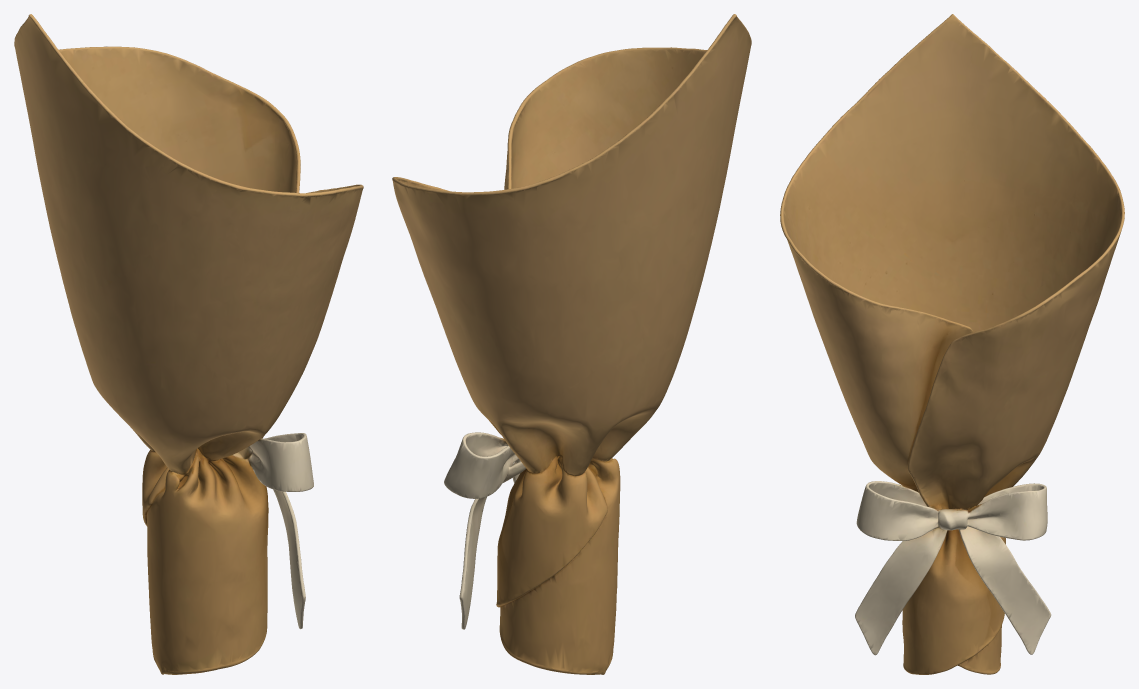
File: Wrapper_Bouquet.glb
The picture shows the model from 3 angles, left to right: view 1: azimuth 30°, elevation 25°; view 2: azimuth 150°, elevation 25°; view 3: azimuth 270°, elevation 25°; orthographic projection. The views are drawn at different scales.
Parts seen in each view (by area): view 1: tripo_node_5275e602-1a8f-4723-85e7-dc7ffb1c9551; view 2: tripo_node_5275e602-1a8f-4723-85e7-dc7ffb1c9551; view 3: tripo_node_5275e602-1a8f-4723-85e7-dc7ffb1c9551.
Part boxes in pixels (x1,y1,x2,y2): tripo_node_5275e602-1a8f-4723-85e7-dc7ffb1c9551: (14,14,363,674); tripo_node_5275e602-1a8f-4723-85e7-dc7ffb1c9551: (392,14,751,674); tripo_node_5275e602-1a8f-4723-85e7-dc7ffb1c9551: (780,14,1124,674).
Bounding box in the file's own units: 0.4512 × 1 × 0.5255.
1 material, 1 textured.
